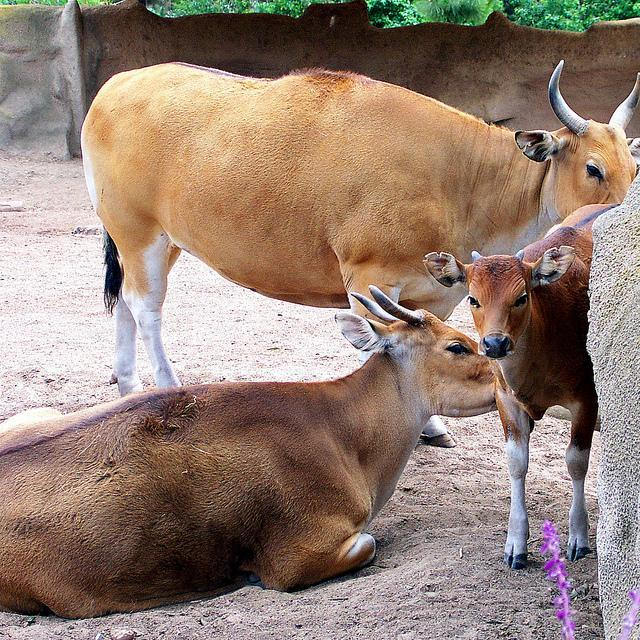cow: (76, 45, 639, 402), (0, 279, 496, 619), (422, 198, 626, 568)
